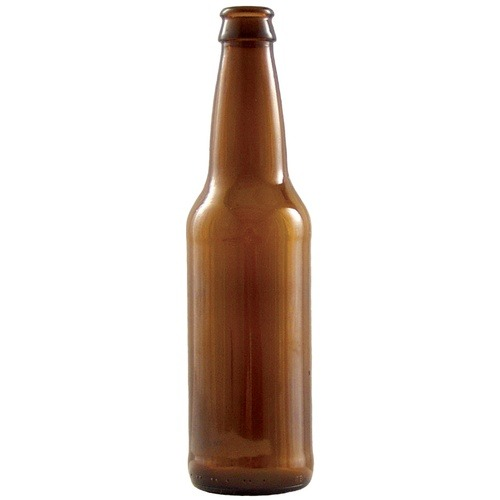container: (177, 4, 317, 497)
